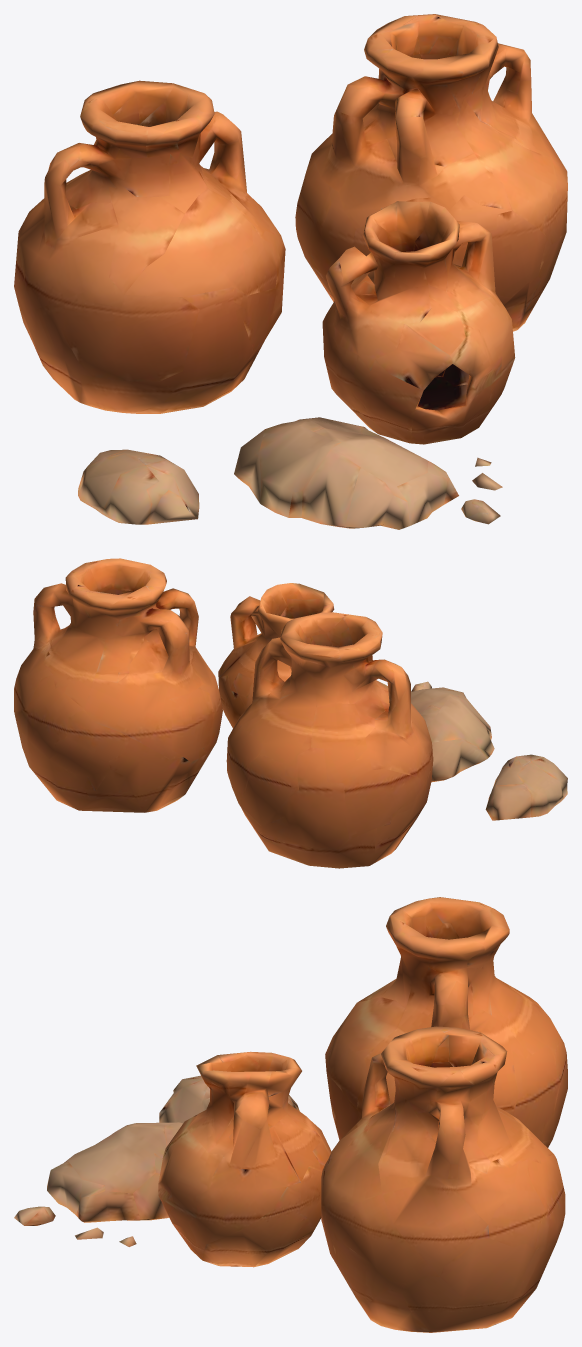
File: amphora_pile.glb
3 views of the same model, one above another, from view 1: azimuth 30°, elevation 25°; view 2: azimuth 150°, elevation 25°; view 3: azimuth 270°, elevation 25° (orthographic). The views are drawn at different scales.
Parts seen in each view (by area): view 1: 0; view 2: 0; view 3: 0.
Part boxes in pixels (left/top/right/bottom): 0: left=14, top=14, right=567, bottom=529; 0: left=14, top=558, right=567, bottom=868; 0: left=14, top=897, right=567, bottom=1332.
Bounding box in the file's own units: 1.89 × 0.865 × 1.71.
Materials: 1 (1 with a texture image).
